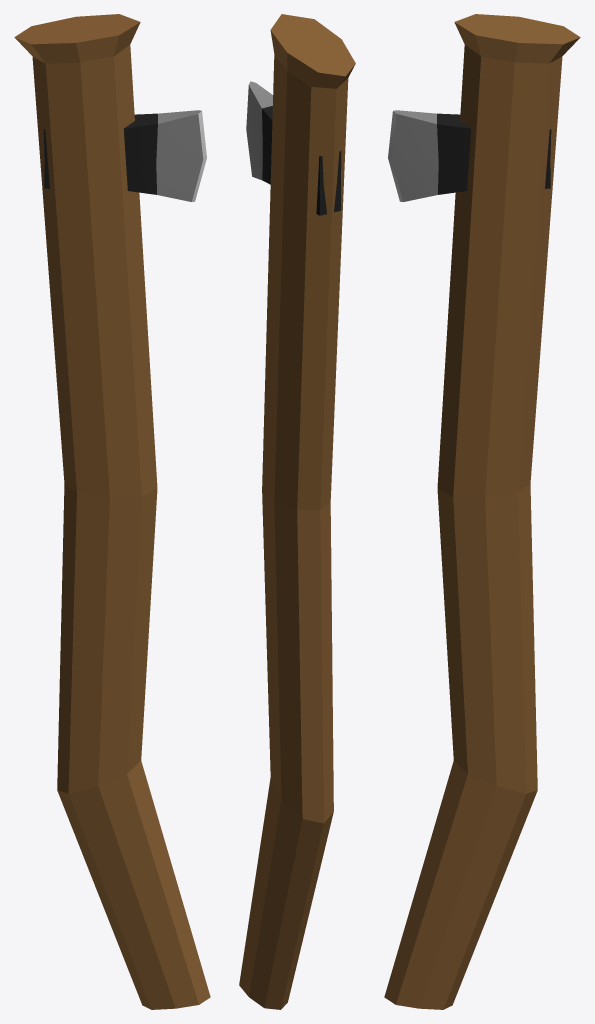
The model's file is Axe18.glb.
3 views of the same model, side by side, from view 1: azimuth 90°, elevation 25°; view 2: azimuth 210°, elevation 25°; view 3: azimuth 270°, elevation 25° (orthographic).
Visible parts, largest first — view 1: weapon_generator; view 2: weapon_generator; view 3: weapon_generator.
Part boxes in pixels (x1,y1,x2,y2): weapon_generator: (14, 14, 210, 1009); weapon_generator: (239, 14, 355, 1009); weapon_generator: (384, 14, 580, 1009).
Bounding box in the file's own units: 0.068 × 1.19 × 0.2149.
